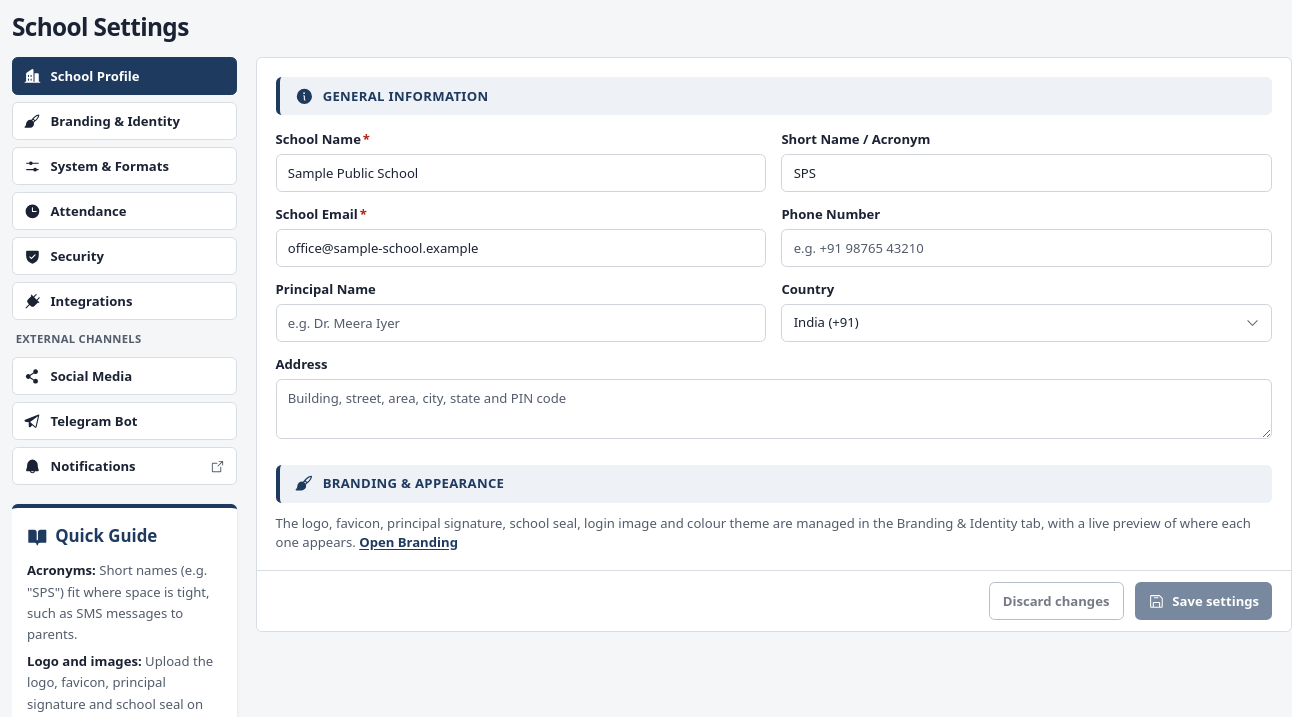
Scenario: SchoolSettingsPage › enables save only after a change, then saves
Expected: the button "Save settings" is disabled, [1135,582,1272,620]
Type "Sample Principal" into the field labelled "Principal Name". click: {"x": 521, "y": 323}
box: [276,304,766,342]
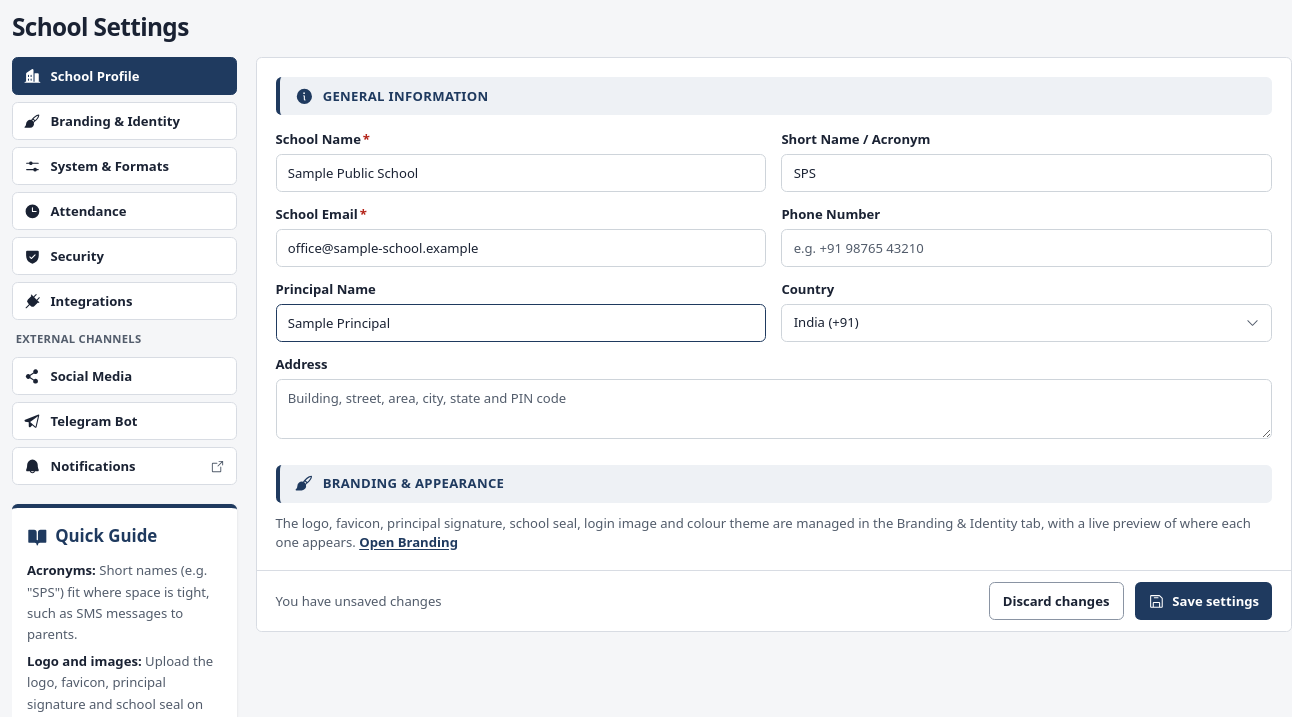
Now the button "Save settings" is enabled
Now the text "You have unsaved changes" is shown, box [276,592,442,610]
Click the button "Save settings". click: {"x": 1204, "y": 601}
box: [1135,582,1272,620]
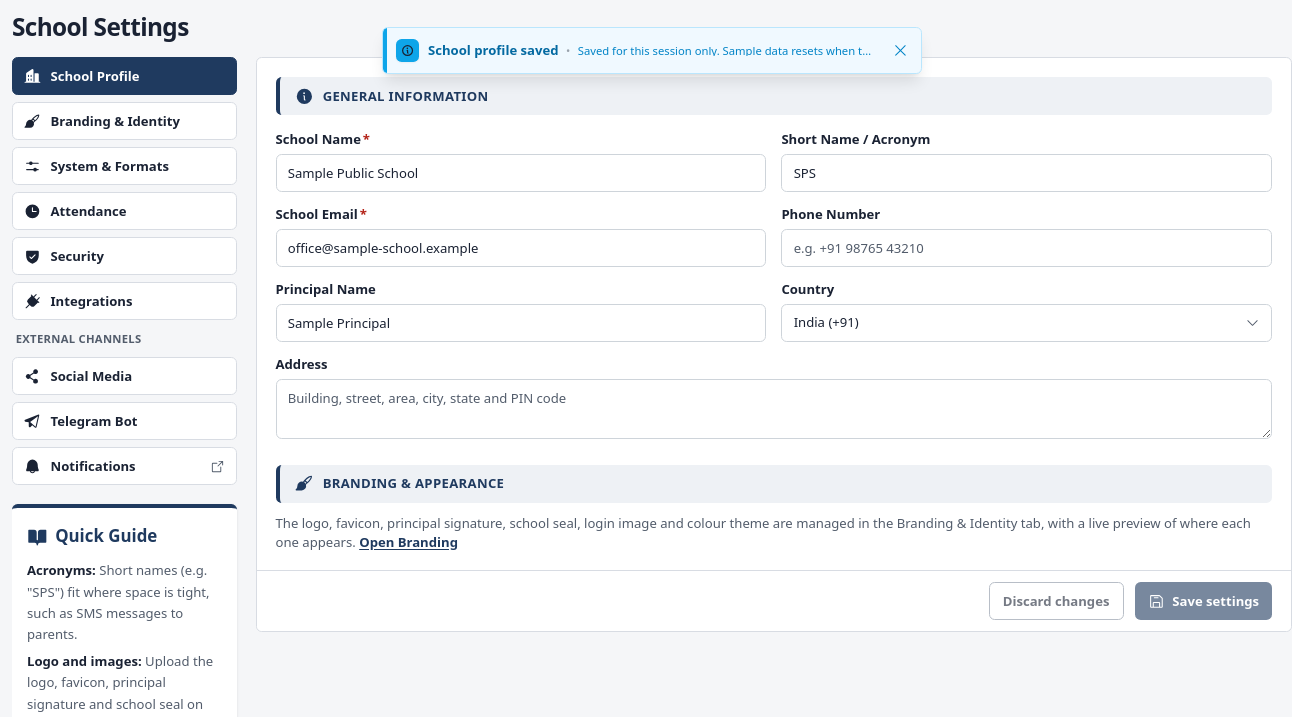
Now the text "School profile saved" is shown, box [428,44,558,57]
